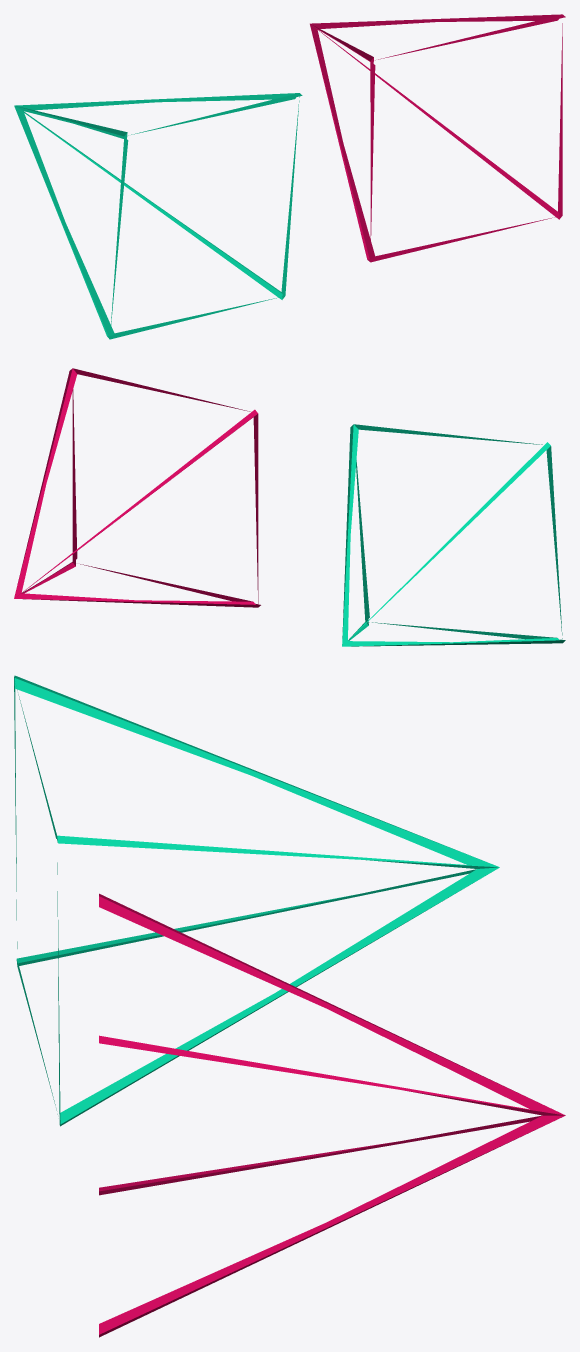
File: glbscene_50_All_maskbFalse_maskwFalse_camTrue_skyFalse_predDepthmap_and_Camera_Branch.glb
The picture shows the model from 3 angles, top to bottom: view 1: azimuth 30°, elevation 25°; view 2: azimuth 150°, elevation 25°; view 3: azimuth 270°, elevation 25°; orthographic projection. The views are drawn at different scales.
Visible parts, largest first — view 1: world; view 2: world; view 3: world.
Part boxes in pixels (box(x1,y1,x2,y2)): world: box(14, 14, 565, 339); world: box(14, 368, 565, 646); world: box(14, 675, 565, 1337).
Size of the model in its own units: 0.1478 by 0.064 by 0.0976.
